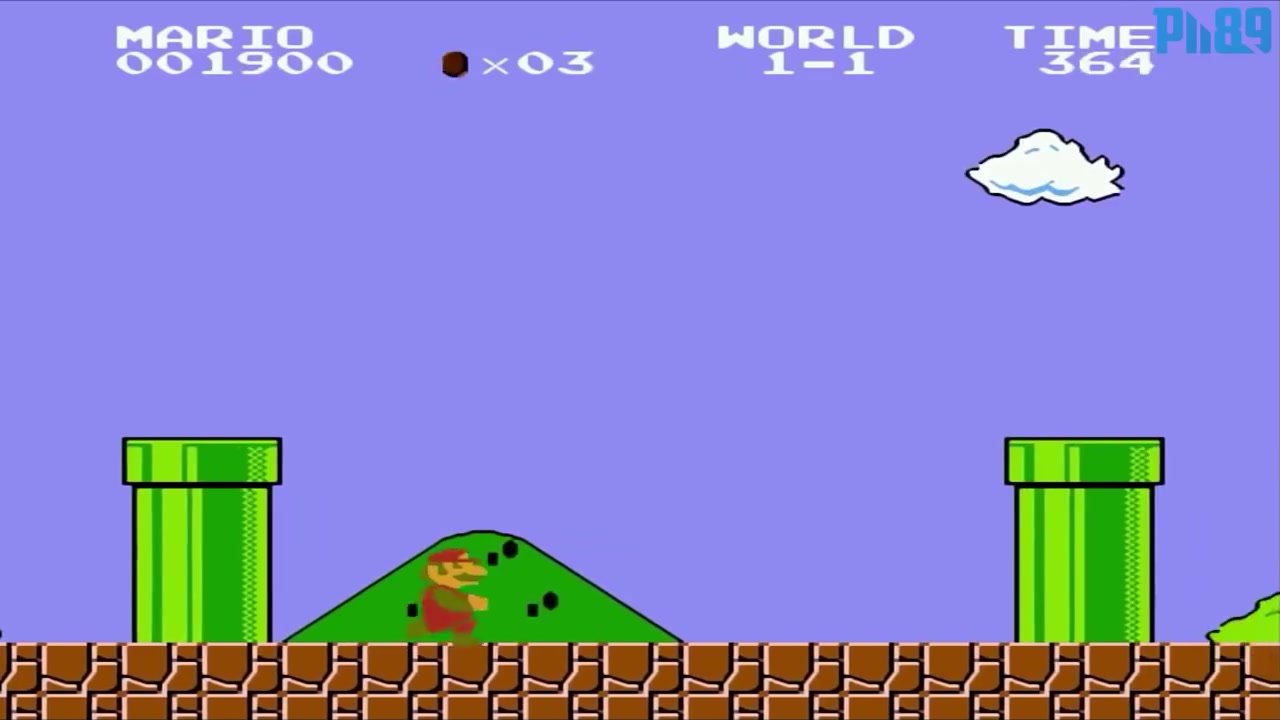mario: (405, 542, 489, 645)
